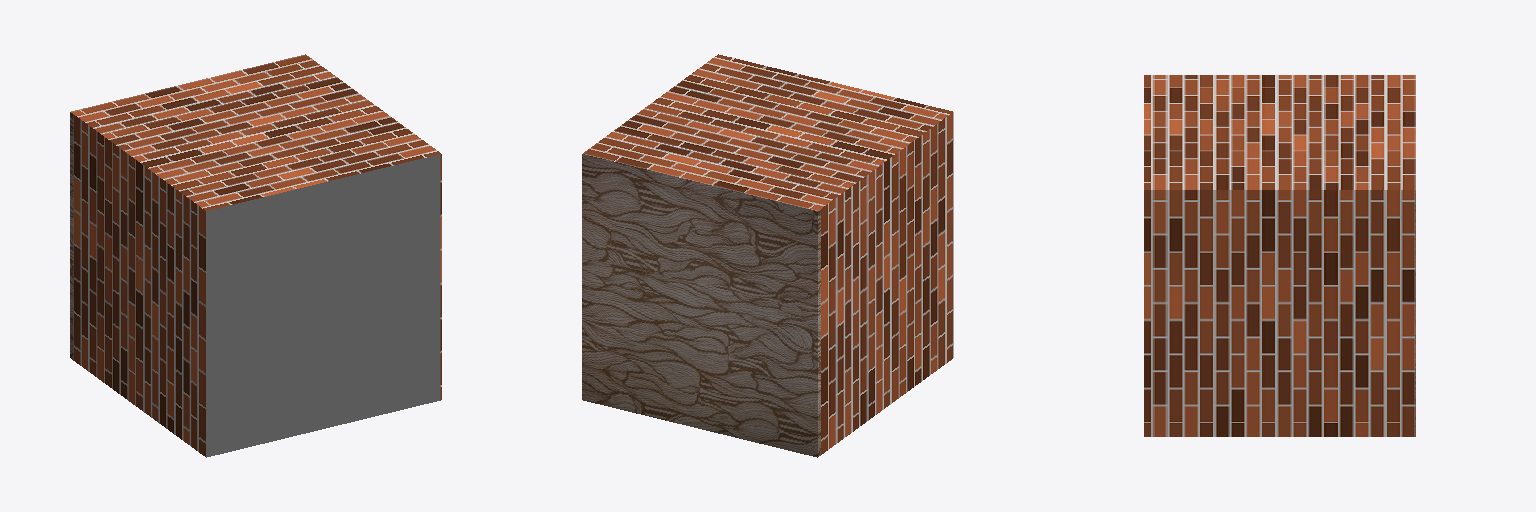
3 renders of one model, left to right at view 1: azimuth 30°, elevation 25°; view 2: azimuth 150°, elevation 25°; view 3: azimuth 270°, elevation 25°, orthographic.
Parts seen in each view (by area): view 1: Cube; view 2: Cube; view 3: Cube.
Part boxes in pixels (bbox=[...]): Cube: bbox=[70, 54, 441, 457]; Cube: bbox=[582, 54, 953, 457]; Cube: bbox=[1144, 75, 1415, 436].
Size of the model in its own units: 2 by 2 by 2.
1 materials, 1 textured.